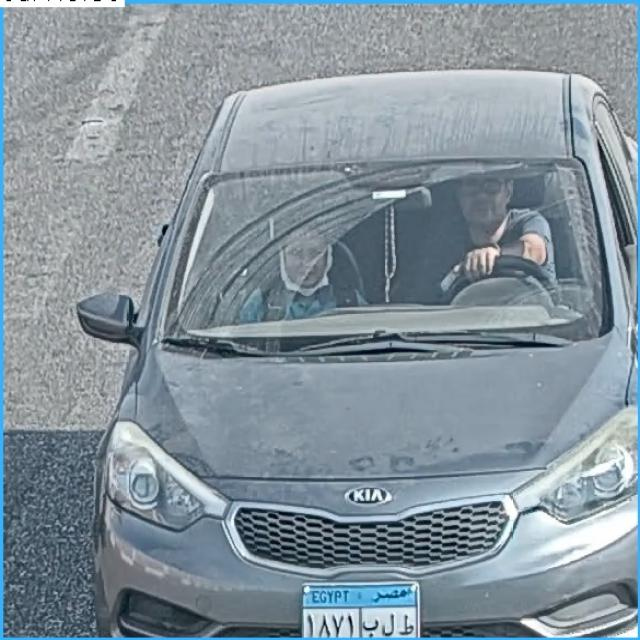windshield: (176, 177, 599, 340)
